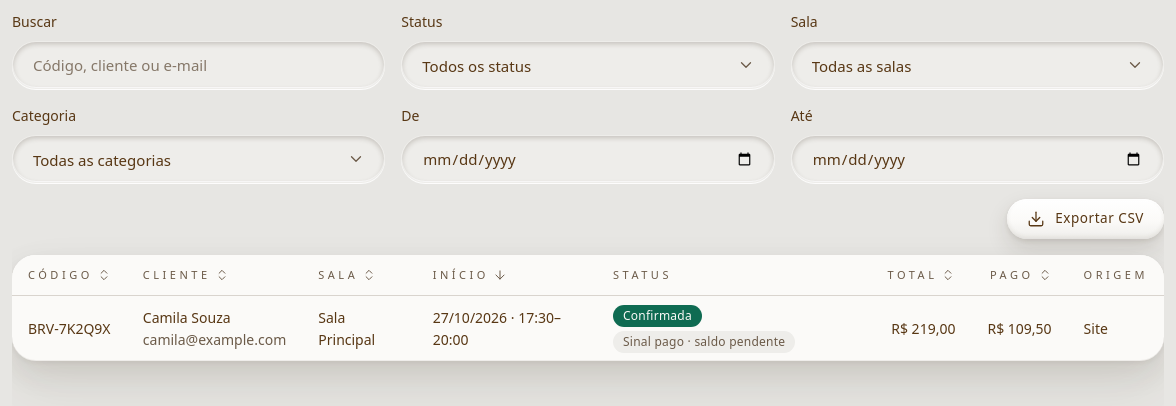
Test: BookingsListPage search and filters (NUC-179) › keeps the status filter in the URL
Expected: the text "BRV-7K2Q9X" is shown, x1=12 y1=296 x2=127 y2=361
Select "Confirmada" in the dropdown labelled "Status" at (588, 65), box x1=401 y1=41 x2=775 y2=89
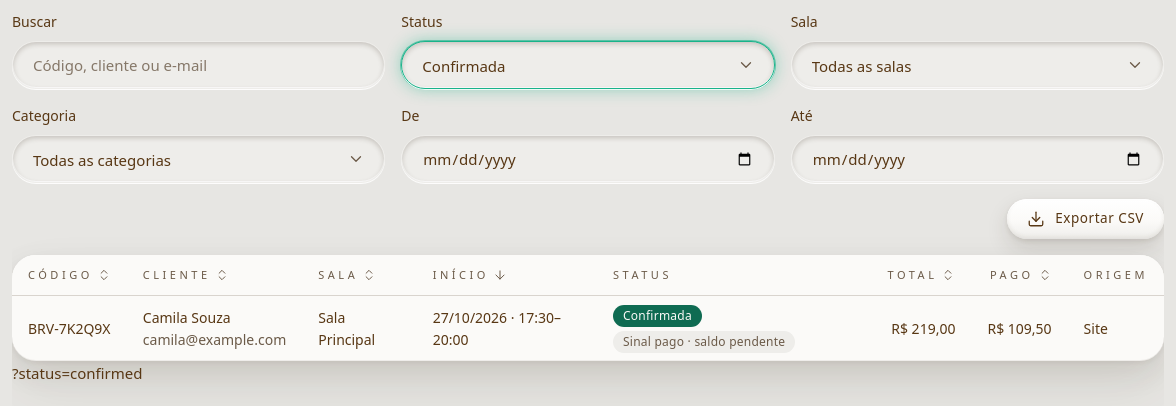
Expected: the text with test id "where" reads "?status=confirmed", x1=12 y1=363 x2=142 y2=383
